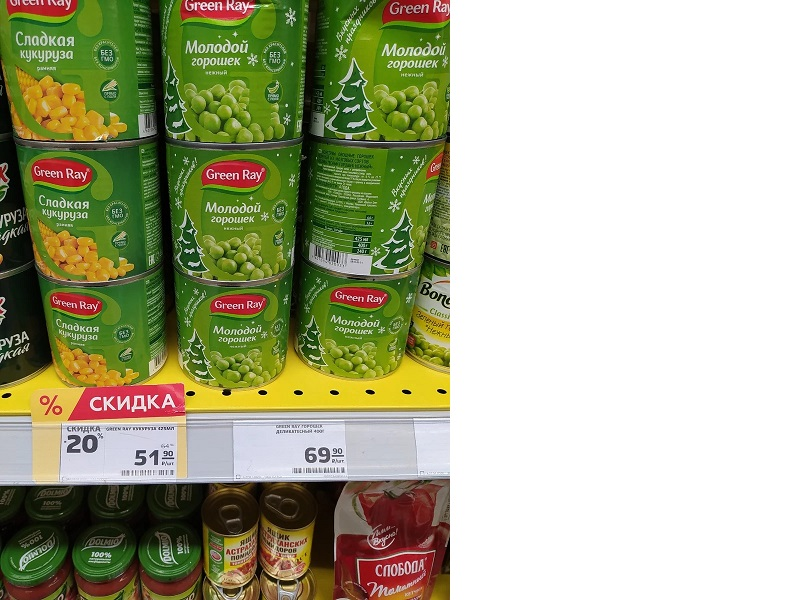peas: (157, 1, 314, 147), (298, 1, 455, 143), (301, 127, 443, 276), (163, 139, 303, 287), (175, 251, 297, 410), (290, 258, 427, 390), (291, 256, 421, 382)
